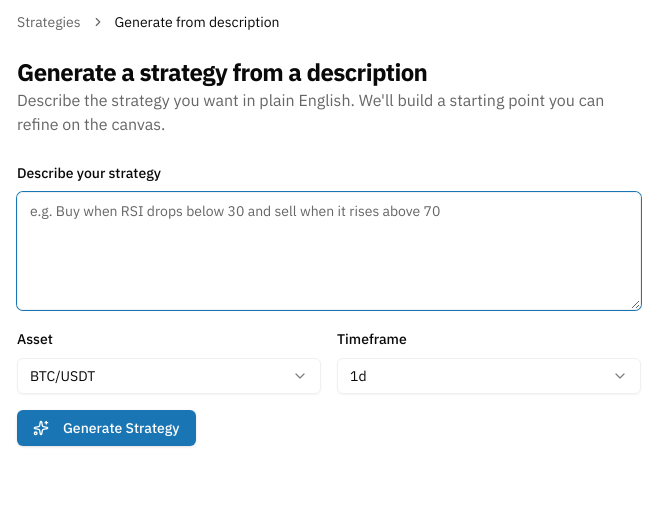
Test: DraftFromNlPage › shows a transient retry message, distinct from a refusal, on infra failure
Replace the text in the text box labelled "Describe your strategy" with "buy when RSI drops below 30". click: (329,251)
box: [17,192,641,310]
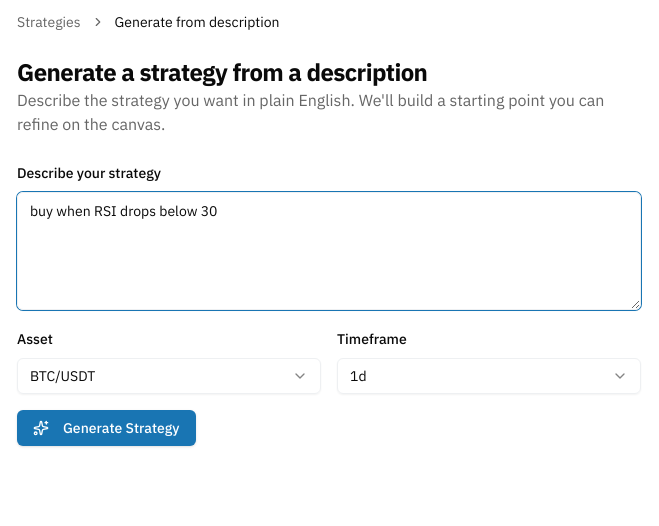
Click the button "Generate Strategy". click: (106,428)
box: [17,410,196,446]
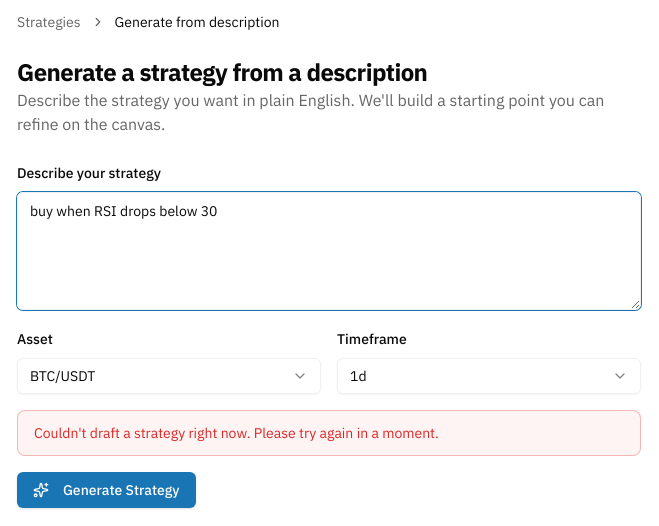
Expected: the message shows "try again in a moment", [34,424,439,442]
